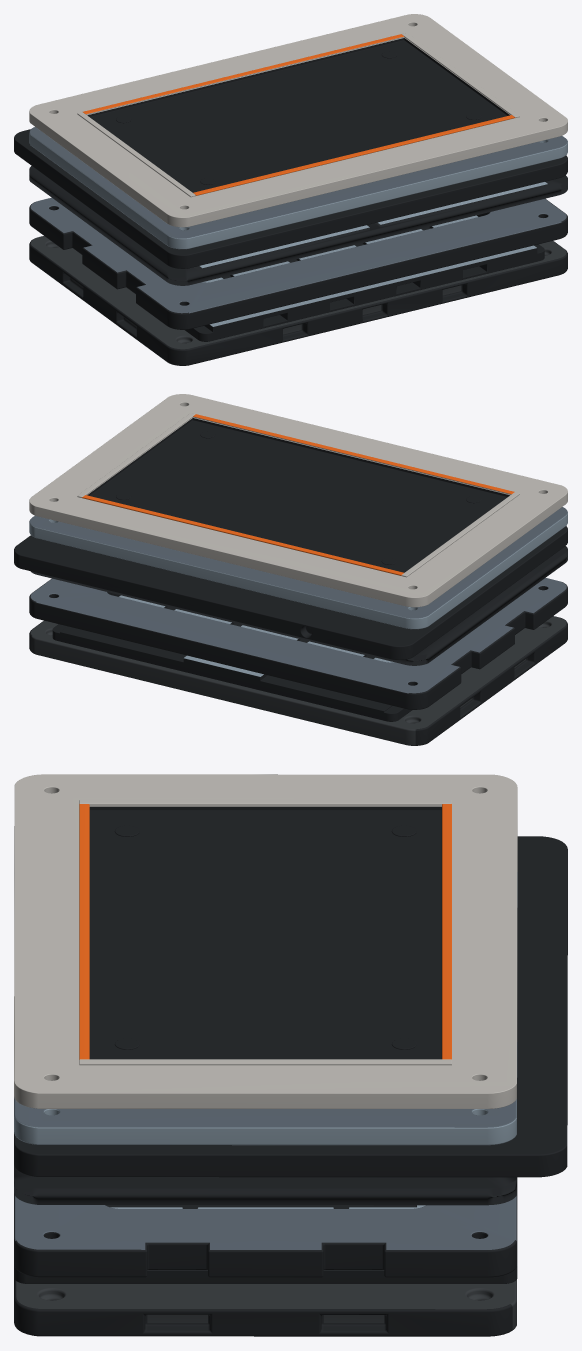
The model's file is shared-foundation-assembly.glb.
3 renders of one model, top to bottom at view 1: azimuth 30°, elevation 25°; view 2: azimuth 150°, elevation 25°; view 3: azimuth 270°, elevation 25°, orthographic. The views are drawn at different scales.
Parts seen in each view (by area): view 1: Plate_08_Experience, Plate_03_Access_Security, Plate_01_Existing_System, Plate_07_Applications, Plate_06_Reliability_Sync, Plate_05_Decisions, Plate_02_Data_In; view 2: Plate_08_Experience, Plate_03_Access_Security, Plate_06_Reliability_Sync, Plate_01_Existing_System, Plate_07_Applications, Plate_02_Data_In, Plate_05_Decisions; view 3: Plate_08_Experience, Plate_03_Access_Security, Plate_06_Reliability_Sync, Plate_01_Existing_System, Plate_07_Applications, Plate_05_Decisions, Plate_02_Data_In.
Part boxes in pixels (bbox=[...]): Plate_08_Experience: bbox=[29, 14, 567, 227]; Plate_03_Access_Security: bbox=[29, 197, 567, 329]; Plate_01_Existing_System: bbox=[29, 236, 567, 365]; Plate_07_Applications: bbox=[29, 127, 567, 249]; Plate_06_Reliability_Sync: bbox=[14, 129, 567, 268]; Plate_05_Decisions: bbox=[29, 166, 567, 285]; Plate_02_Data_In: bbox=[74, 215, 544, 341]; Plate_08_Experience: bbox=[29, 394, 567, 607]; Plate_03_Access_Security: bbox=[29, 578, 567, 709]; Plate_06_Reliability_Sync: bbox=[14, 526, 567, 659]; Plate_01_Existing_System: bbox=[29, 616, 567, 745]; Plate_07_Applications: bbox=[29, 507, 567, 629]; Plate_02_Data_In: bbox=[52, 595, 524, 721]; Plate_05_Decisions: bbox=[31, 546, 567, 665]; Plate_08_Experience: bbox=[14, 774, 517, 1108]; Plate_03_Access_Security: bbox=[14, 1177, 517, 1277]; Plate_06_Reliability_Sync: bbox=[14, 836, 567, 1177]; Plate_01_Existing_System: bbox=[14, 1278, 516, 1336]; Plate_07_Applications: bbox=[14, 872, 517, 1145]; Plate_05_Decisions: bbox=[14, 1165, 516, 1205]; Plate_02_Data_In: bbox=[14, 1205, 517, 1283].
Bounding box in the file's own units: 0.3 × 0.108 × 0.22.
